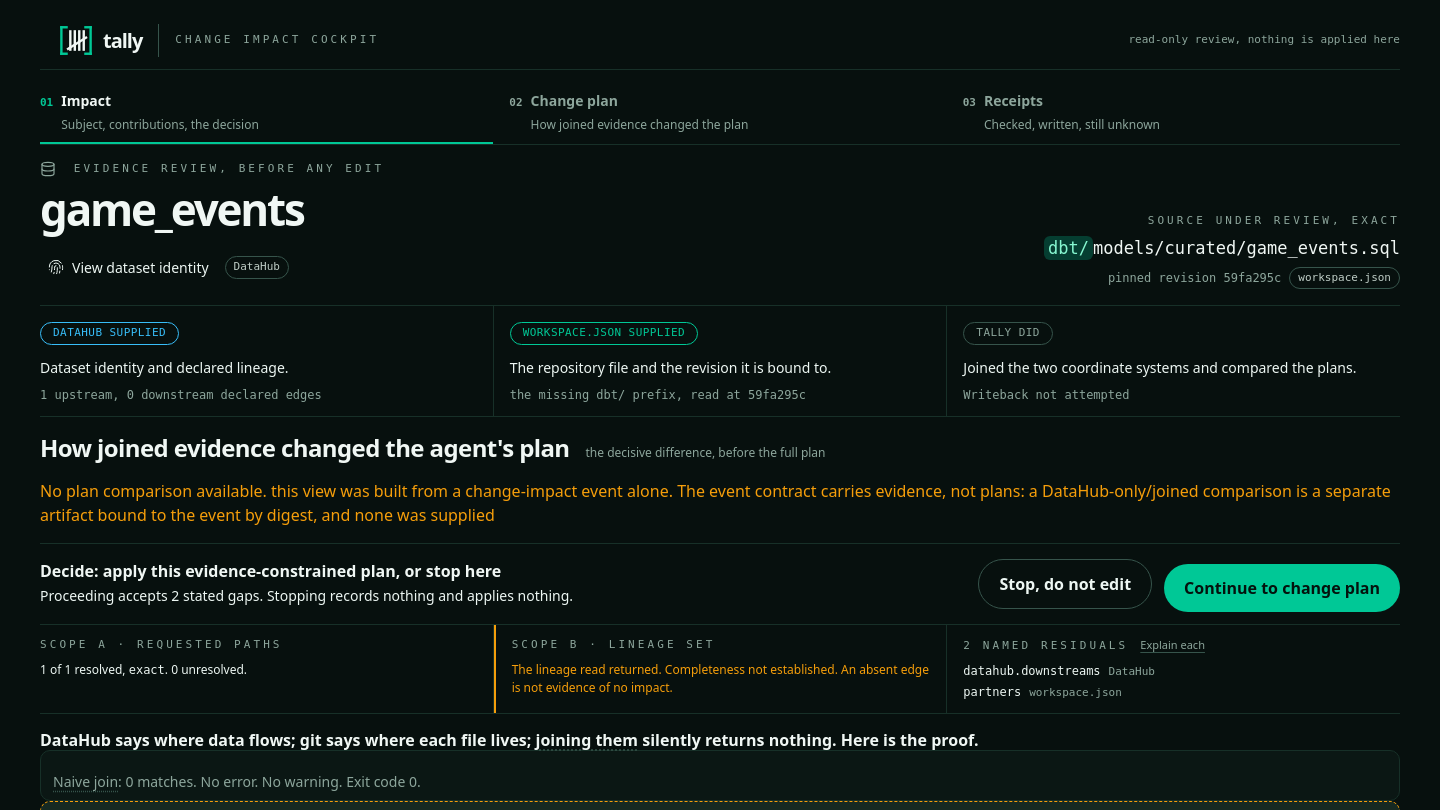
Test: progressive disclosure summaries carry semantic labels, not raw identifiers › hero popover panel contains the full canonical URN when opened
This screenshot has width=1440, height=810.
Click the button "View dataset identity" at (128, 267), box [40, 245, 217, 289]
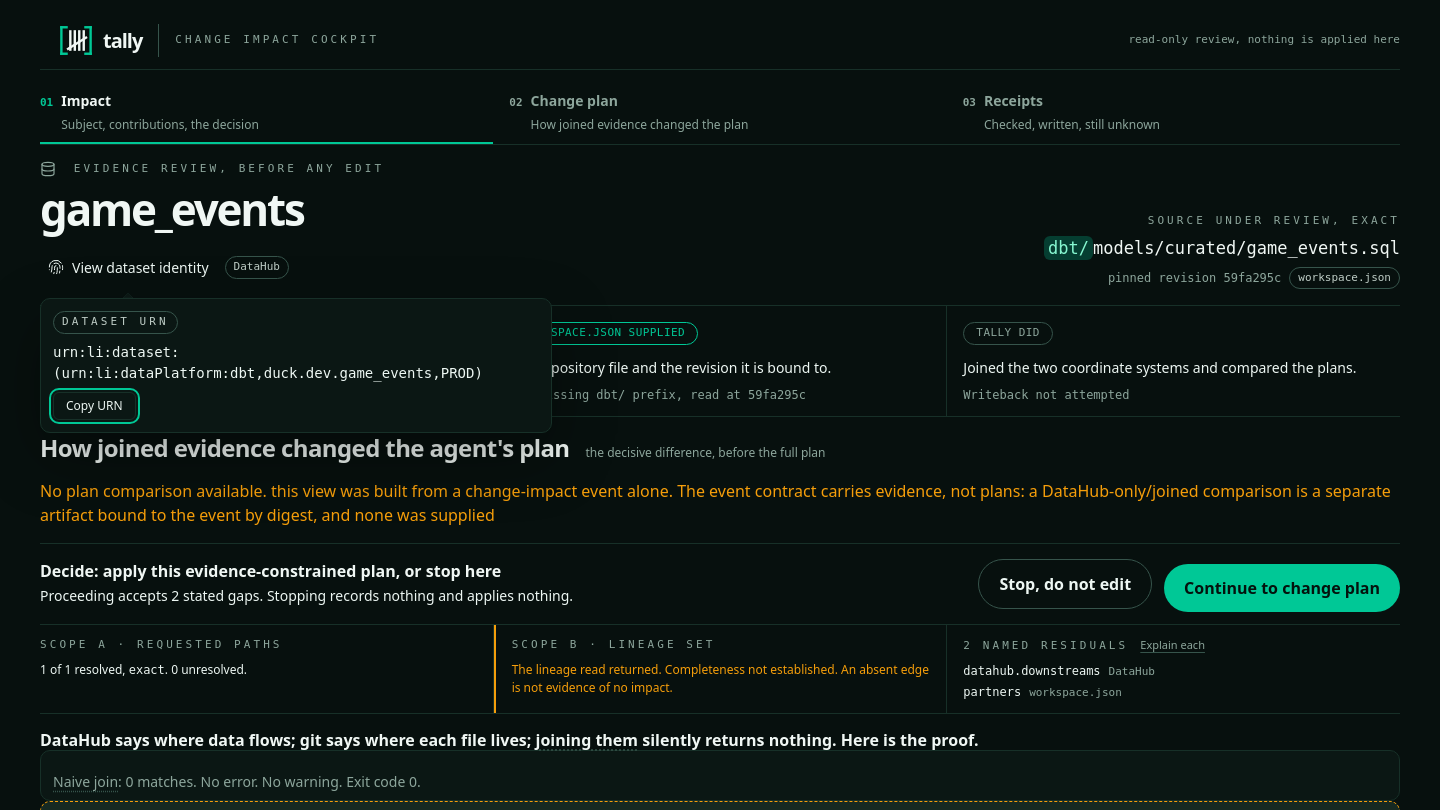
Now the dialog shows "urn:li:dataset:(urn:li:dataPlatform:dbt,duck.dev.game_events,PROD)", box [53, 344, 483, 380]
